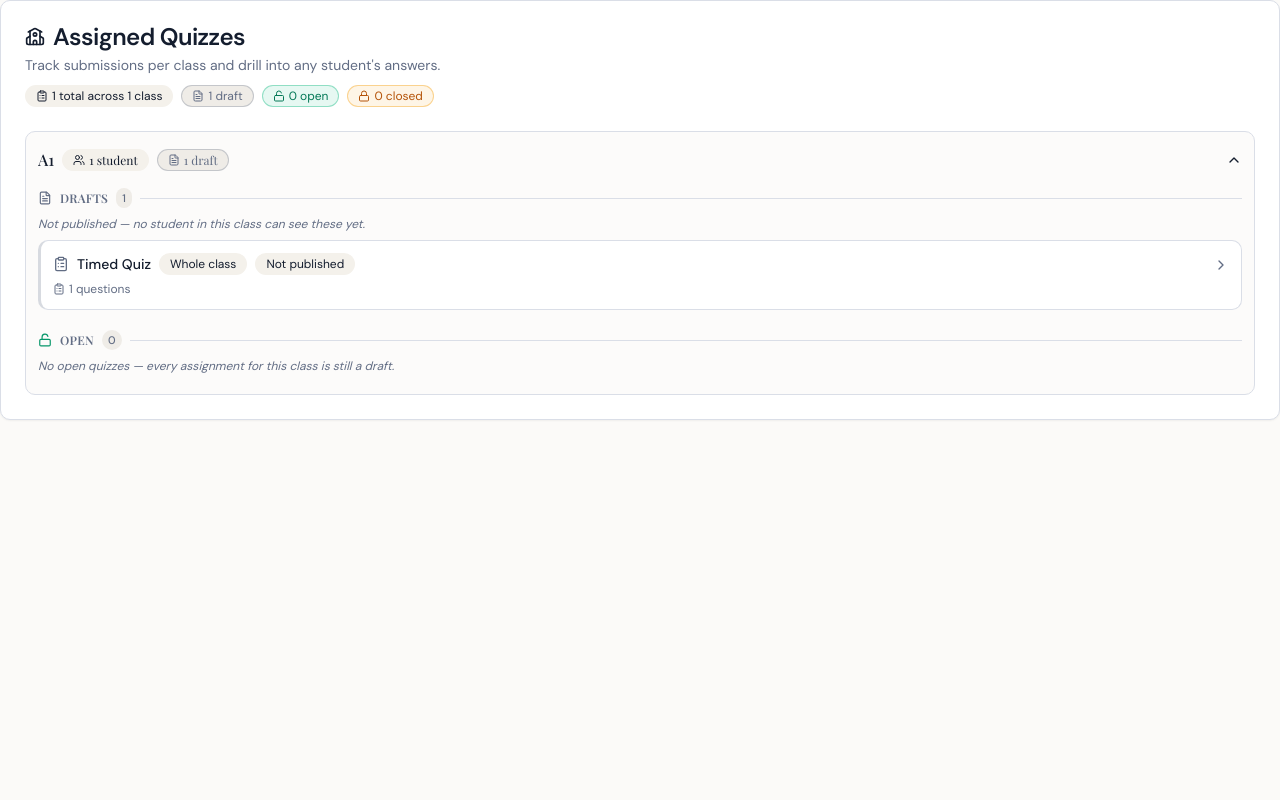
AssignedQuizzesBoard › flags completed attempts that ran past the time limit with an over-time badge
The width and height of the screenshot is (1280, 800).
expect the text "A1" is shown: met, box [38,148,54,172]
expect the text "Timed Quiz" is shown: met, box [77,254,151,274]
Click the button "Timed Quiz Whole class Not published 1 questions" at (114, 264), box [41,241,1241,309]
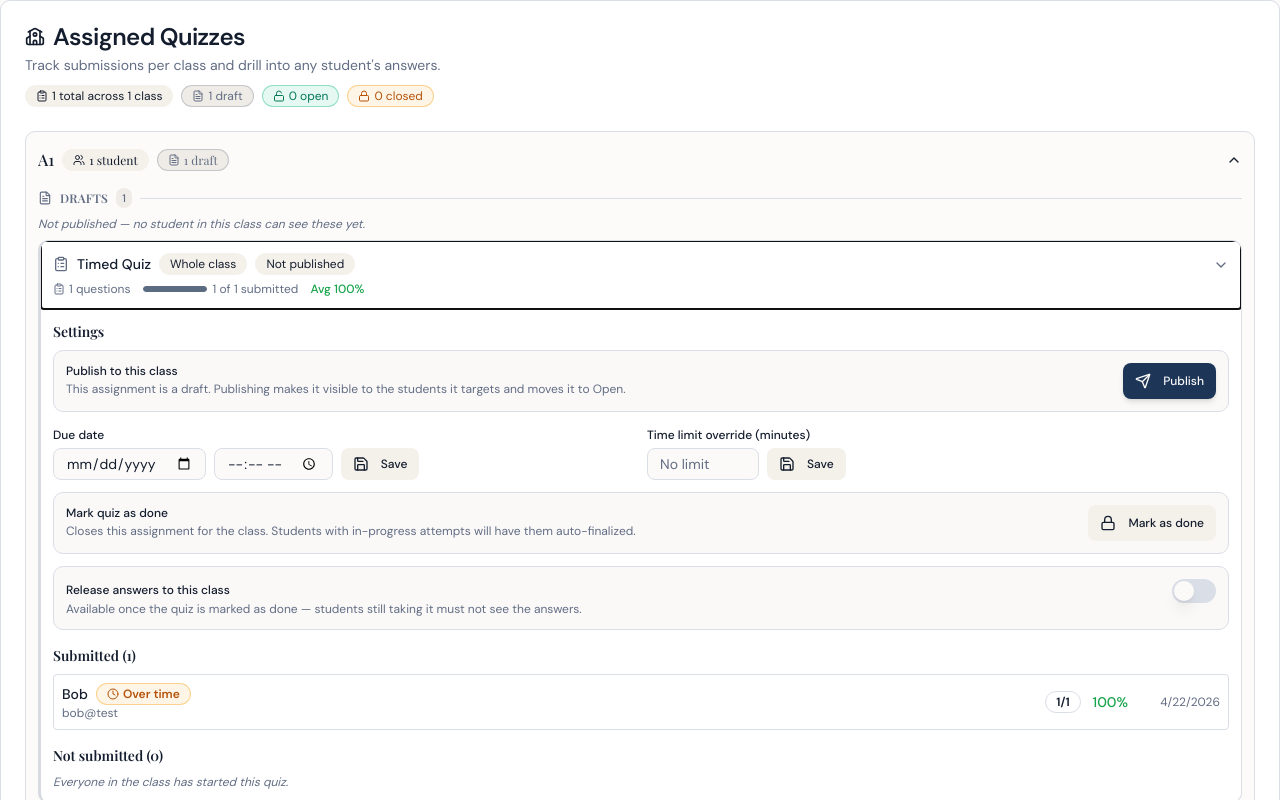
expect the element with test id "overtime-badge-stu-1" is shown: met, box [96,683,191,705]
